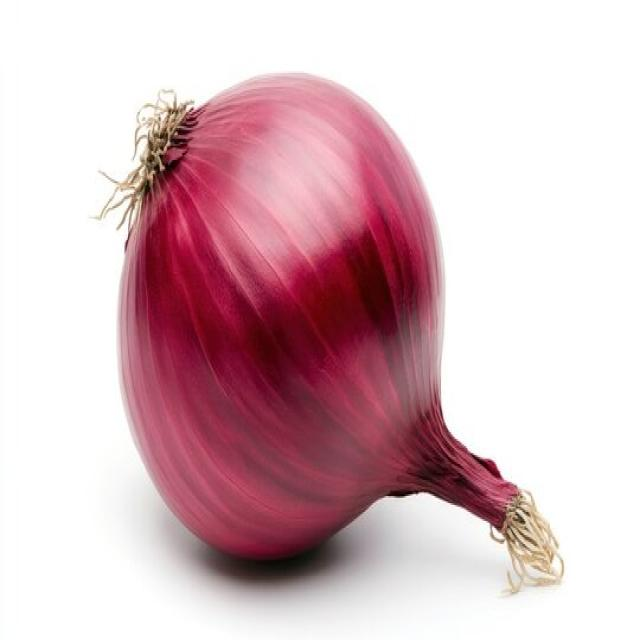Onion: (98, 70, 564, 596)
